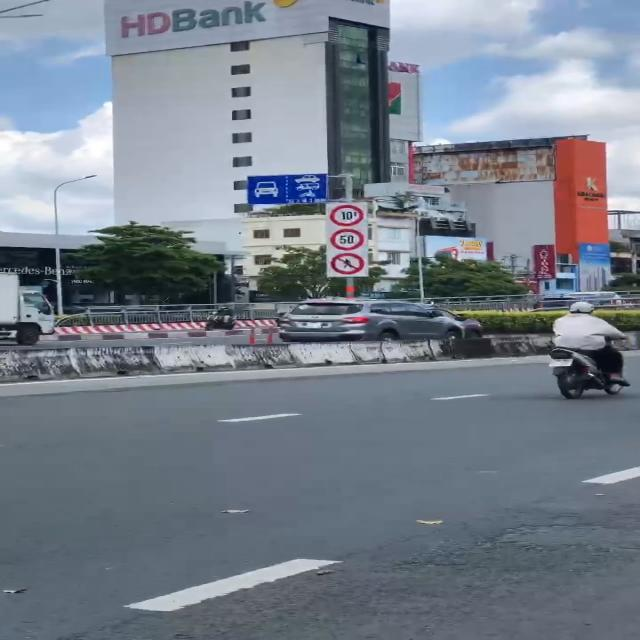Bien bao cam nguoi di bo: (328, 250, 369, 276)
Bien bao toc do toi da cho phep: (329, 226, 367, 252)
